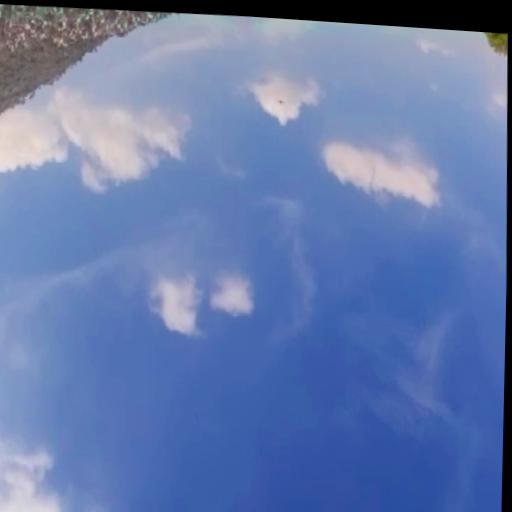drones: (274, 94, 287, 109)
